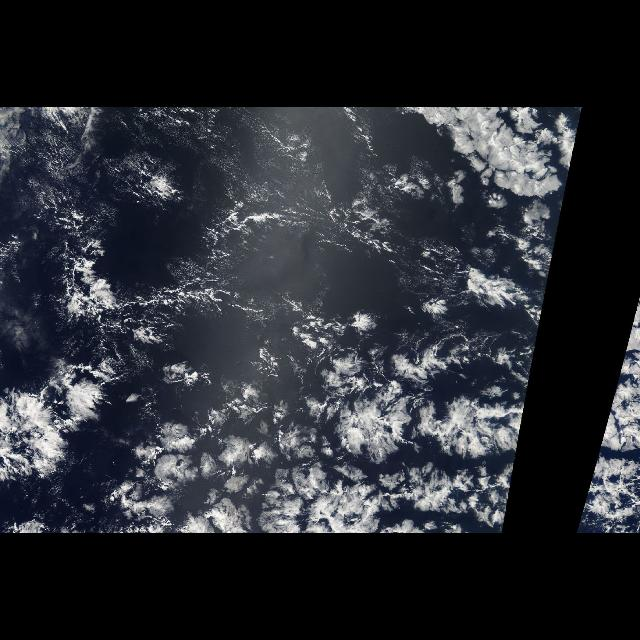Fish: (0, 353, 114, 492)
Flower: (120, 368, 532, 532)
Sugar: (0, 108, 400, 334)
